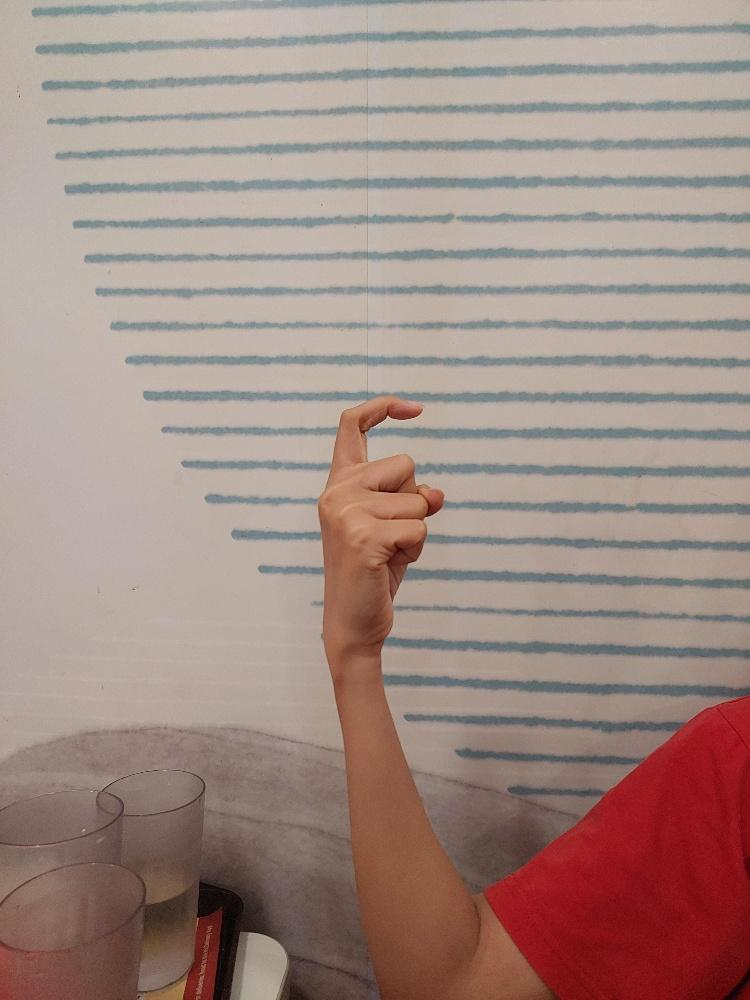x: (315, 391, 447, 655)
